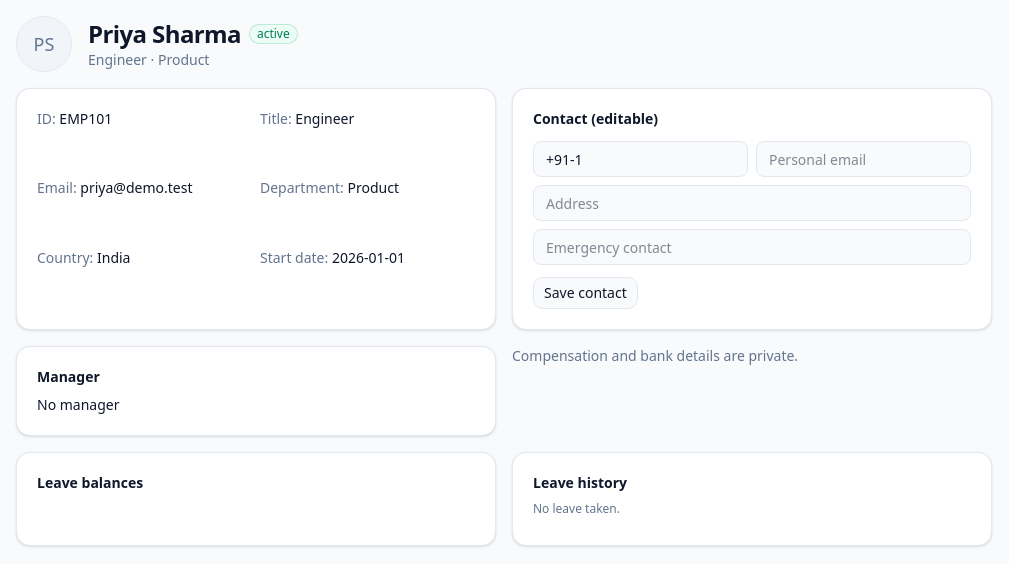
it: EmployeeProfilePage › lets the profile owner save their contact details when editable
Replace the text in the field named "Phone" with "+91-98765-43210" at (640, 159), box [533,141,748,177]
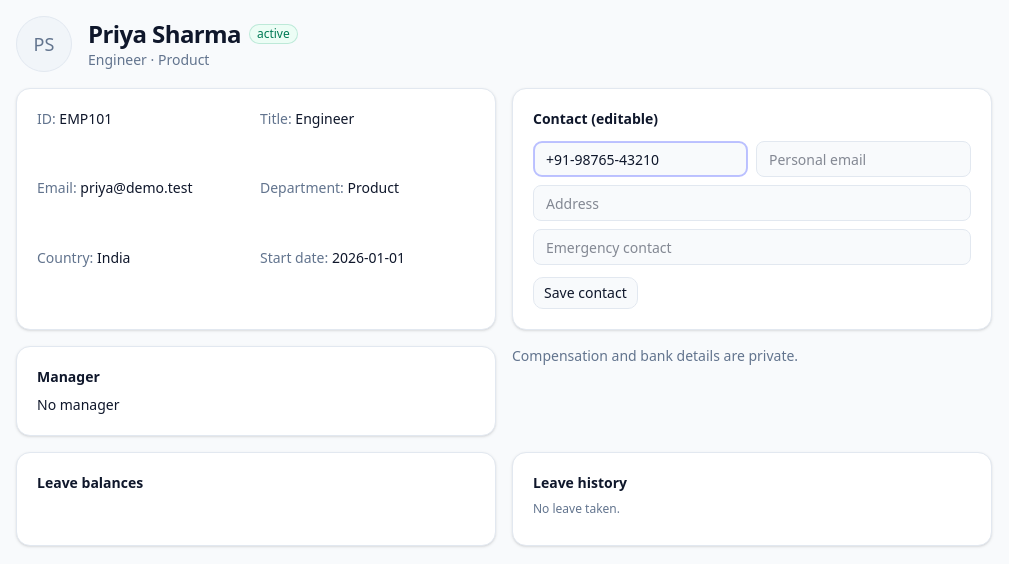
Click the button "Save contact".
click(585, 293)  # box [533,277,638,309]
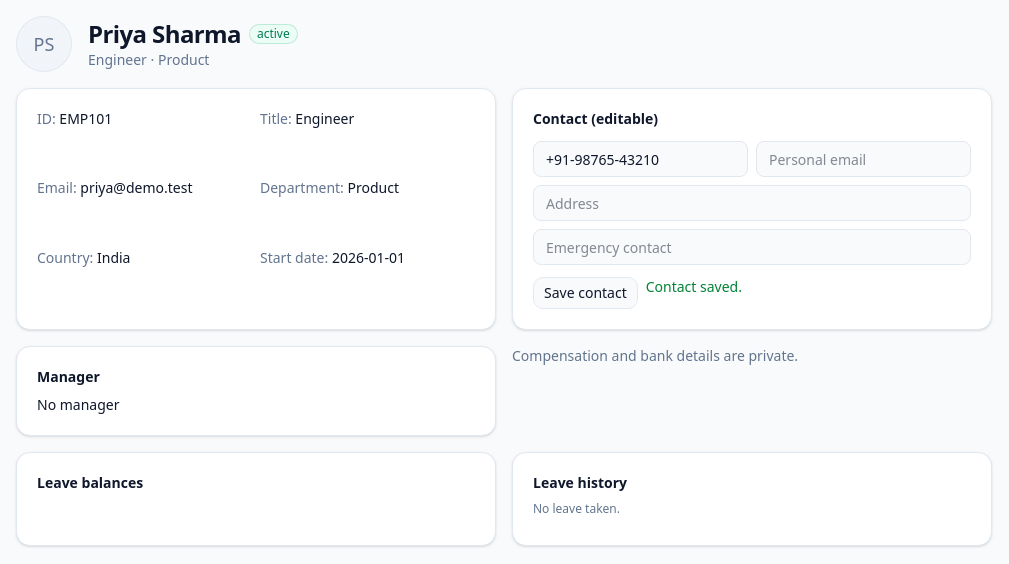
Check: the text "Contact saved." is shown, box [646,277,742,296]
